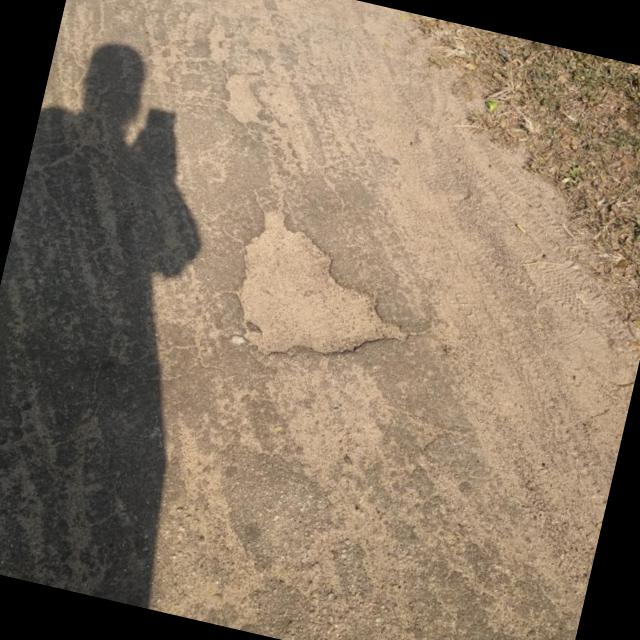Lubang: (238, 210, 403, 353), (225, 74, 262, 123)
